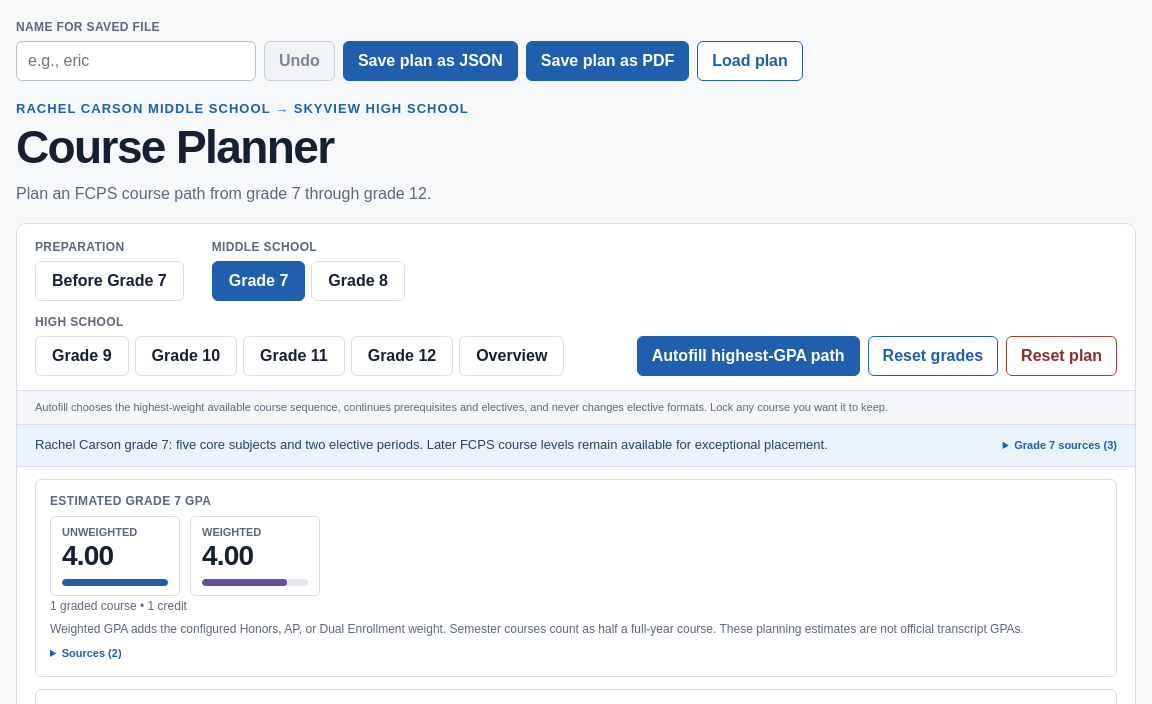
it: device-local persistence, reset, and undo › resets the plan after confirmation and restores it with Undo
Click the button "Reset plan".
click(1062, 356)  # box [1006,336,1117,376]
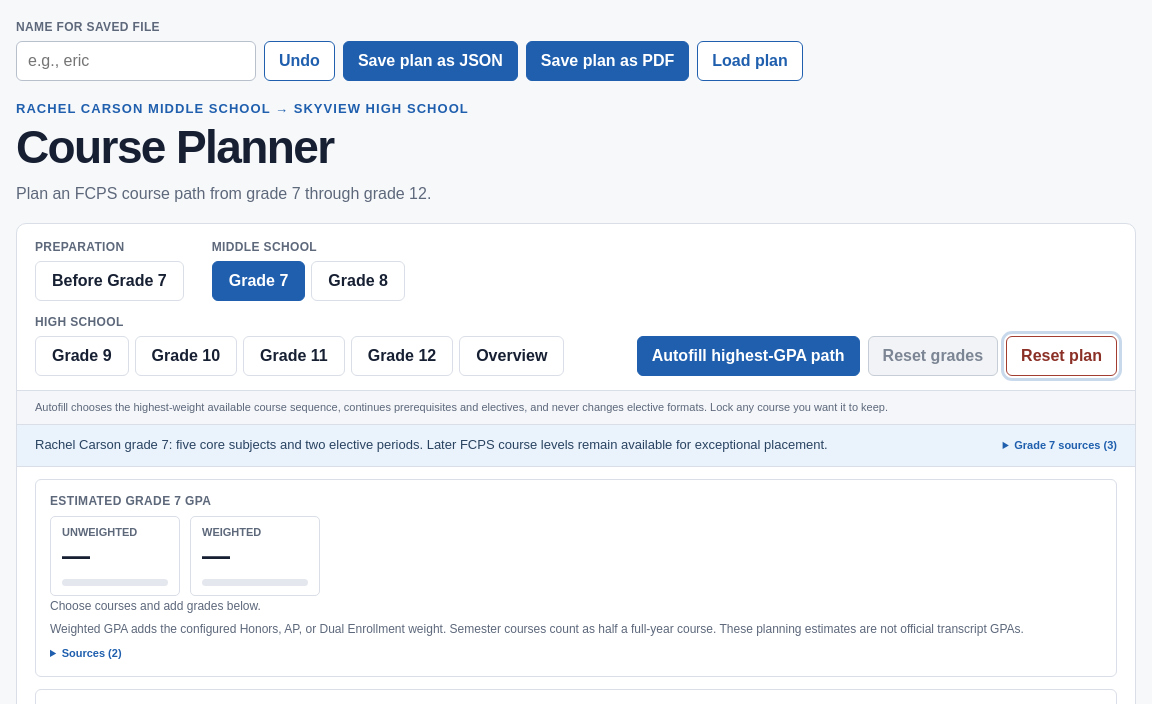
Click the button "Undo".
click(299, 61)  # box [264,41,335,81]
(page scrolled)
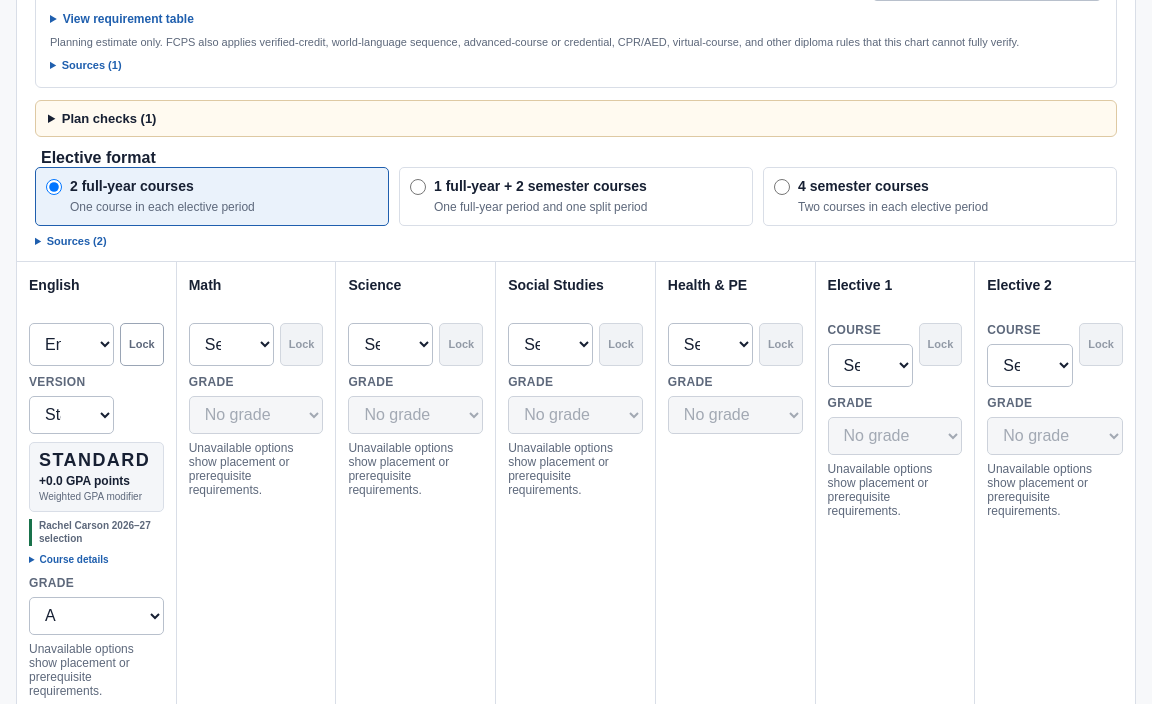
Check: the dropdown named "Choose English for grade 7" below "English" shows "English 7", box [29,323,114,366]
